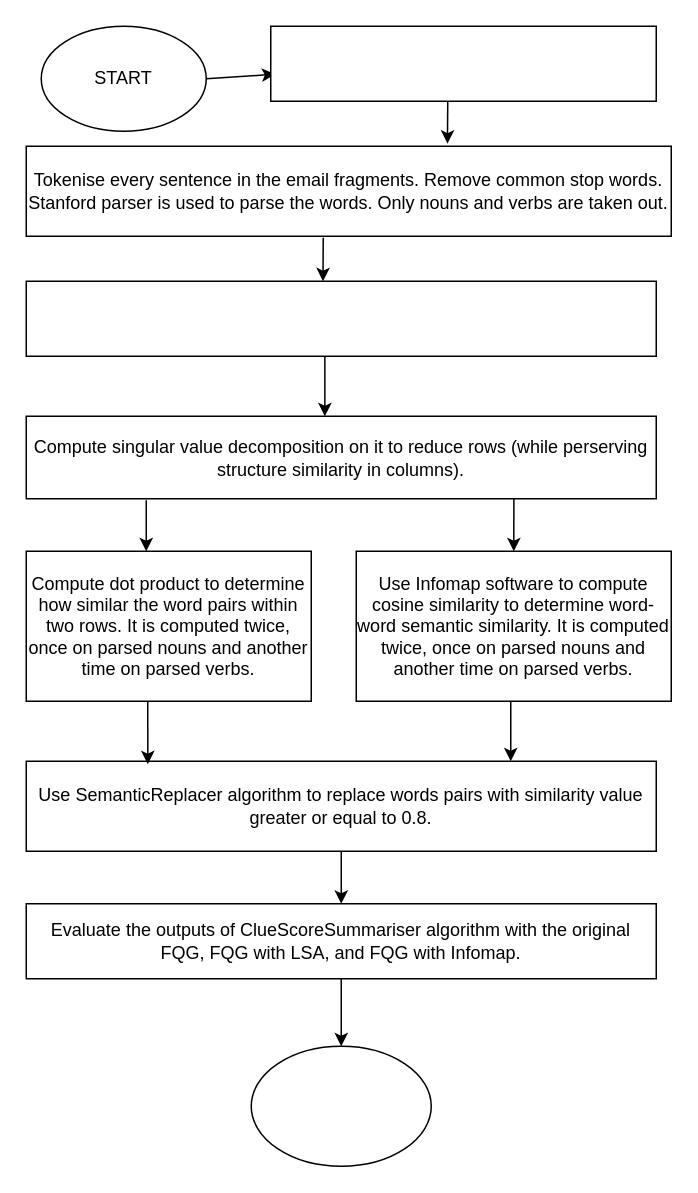
Image size: 698x1193. Some labels were removed from this diagram. Each missing label, with the centre of its shape:
END: point (340, 1105)
Extract email conversations using fragment quotation graph (FQG).: point (462, 63)
Implement latent semantic analysis (LSA) by constructing a term-document matrix.: point (340, 318)
